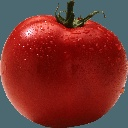tomato: (3, 15, 128, 124)
